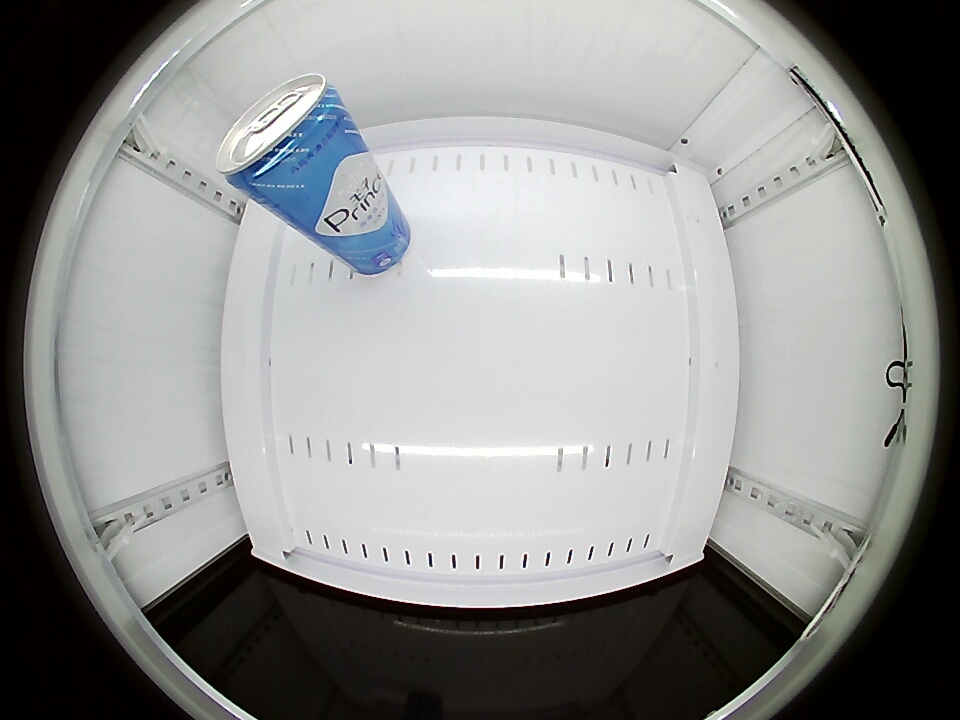qingdaowangzi-2: (216, 73, 349, 199)
